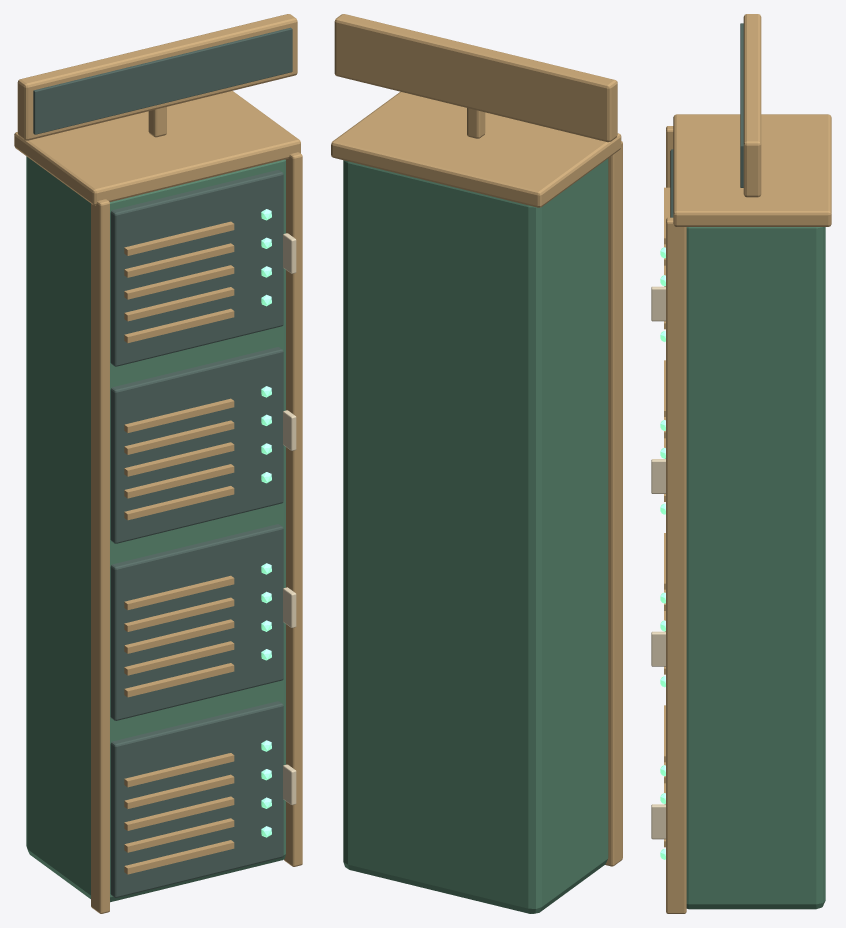
The model's file is common_quota_wall_reset.glb.
3 views of the same model, side by side, from view 1: azimuth 30°, elevation 25°; view 2: azimuth 150°, elevation 25°; view 3: azimuth 270°, elevation 25° (orthographic). The views are drawn at different scales.
Parts seen in each view (by area): view 1: common_quota_wall_reset__common-dark-timber, common_quota_wall_reset__common-brushed-brass, common_quota_wall_reset__common-sage, common_quota_wall_reset__common-ivory, common_quota_wall_reset__common-status-reset; view 2: common_quota_wall_reset__common-sage, common_quota_wall_reset__common-brushed-brass; view 3: common_quota_wall_reset__common-sage, common_quota_wall_reset__common-brushed-brass, common_quota_wall_reset__common-ivory, common_quota_wall_reset__common-dark-timber, common_quota_wall_reset__common-status-reset.
Part boxes in pixels (x1,y1,x2,y2): common_quota_wall_reset__common-dark-timber: (33,27,292,897); common_quota_wall_reset__common-brushed-brass: (14,14,302,913); common_quota_wall_reset__common-sage: (26,156,285,902); common_quota_wall_reset__common-ivory: (283,233,296,804); common_quota_wall_reset__common-status-reset: (261,209,271,837); common_quota_wall_reset__common-sage: (343,158,608,913); common_quota_wall_reset__common-brushed-brass: (331,14,622,866); common_quota_wall_reset__common-sage: (686,227,825,909); common_quota_wall_reset__common-brushed-brass: (664,14,831,913); common_quota_wall_reset__common-ivory: (651,286,665,839); common_quota_wall_reset__common-dark-timber: (670,23,743,217); common_quota_wall_reset__common-status-reset: (660,247,665,859).
Size of the model in its own units: 2.1 by 5.94 by 1.23.
